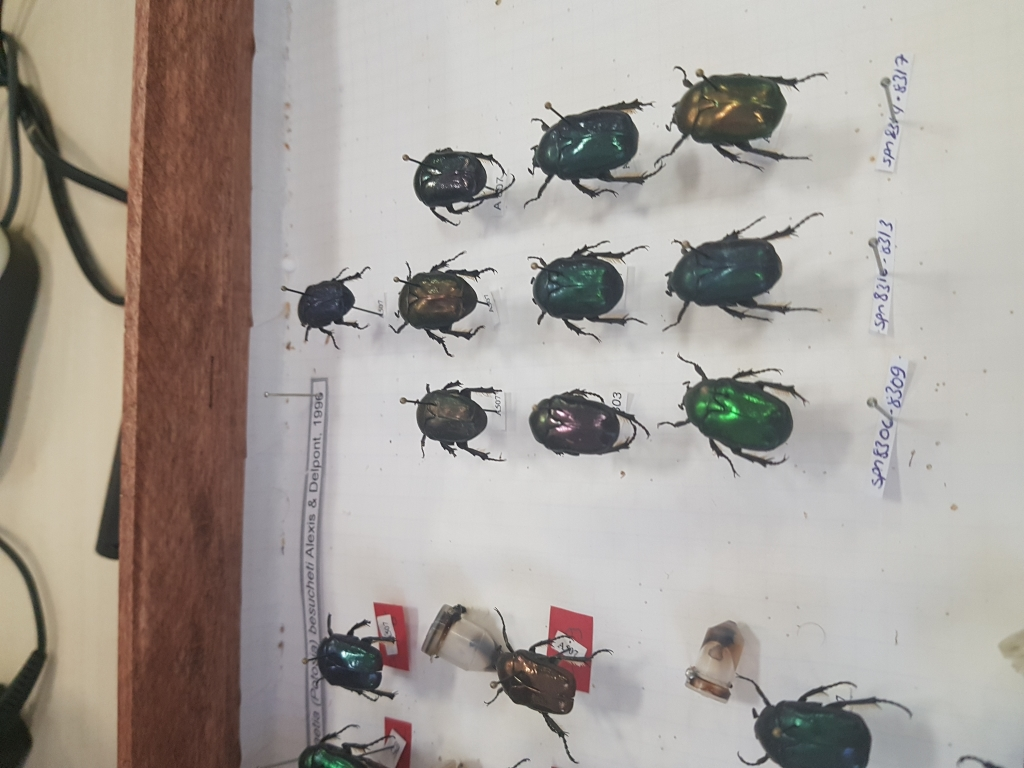Protaetia_besucheti: (667, 203, 828, 350), (516, 238, 656, 352)
